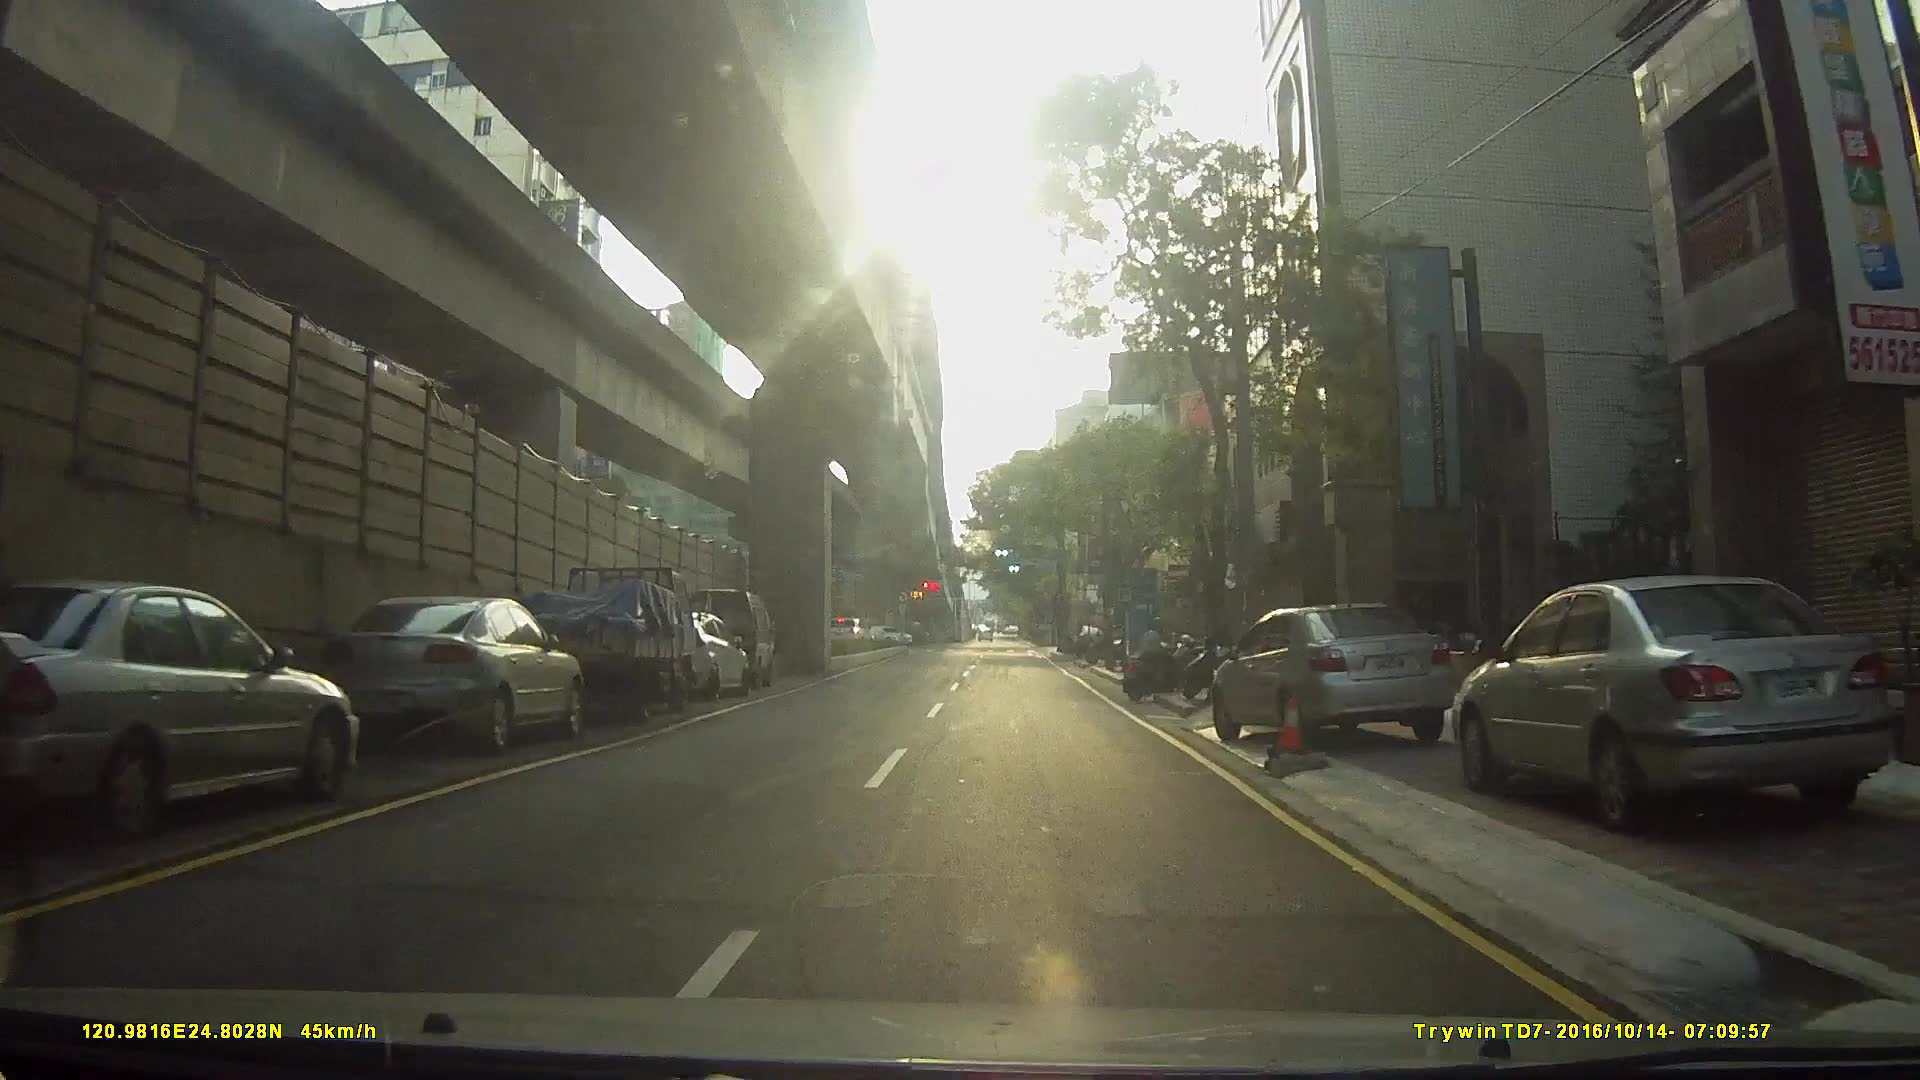rider: (1124, 622, 1201, 707)
vehicle: (1435, 567, 1906, 852), (1, 571, 370, 843), (294, 594, 587, 761), (1216, 599, 1473, 747), (508, 562, 692, 728), (635, 608, 751, 703), (821, 614, 874, 650)
